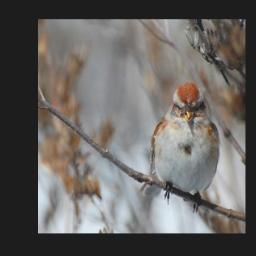Sparrow: (138, 79, 221, 217)
